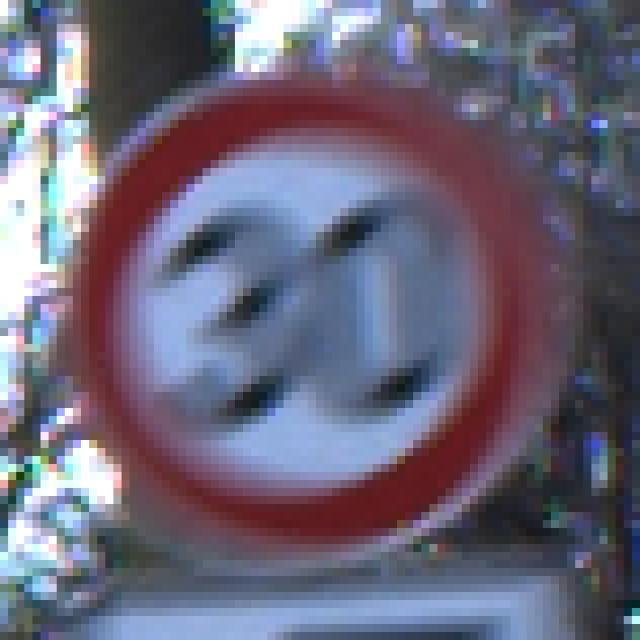Speed Limit -30-: (52, 52, 580, 580)
